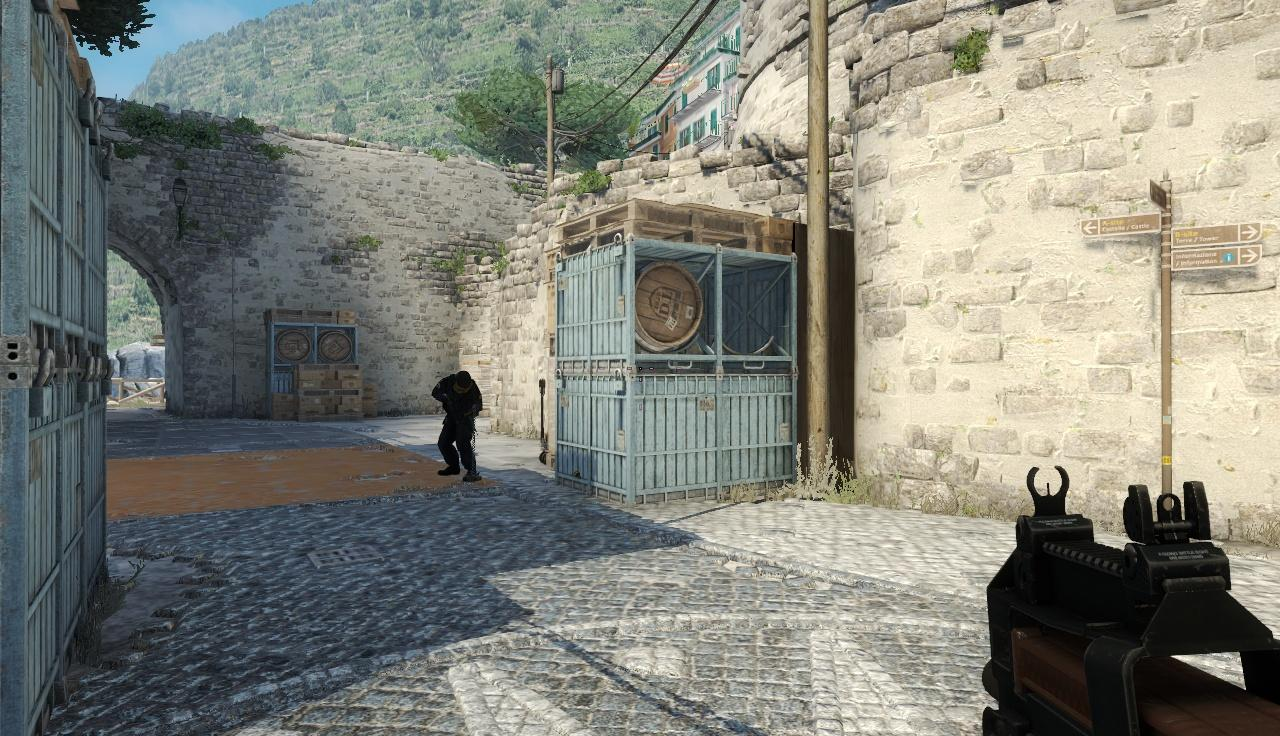ct: (432, 368, 480, 484)
cthead: (454, 371, 472, 394)
rifle: (988, 472, 1280, 736)
